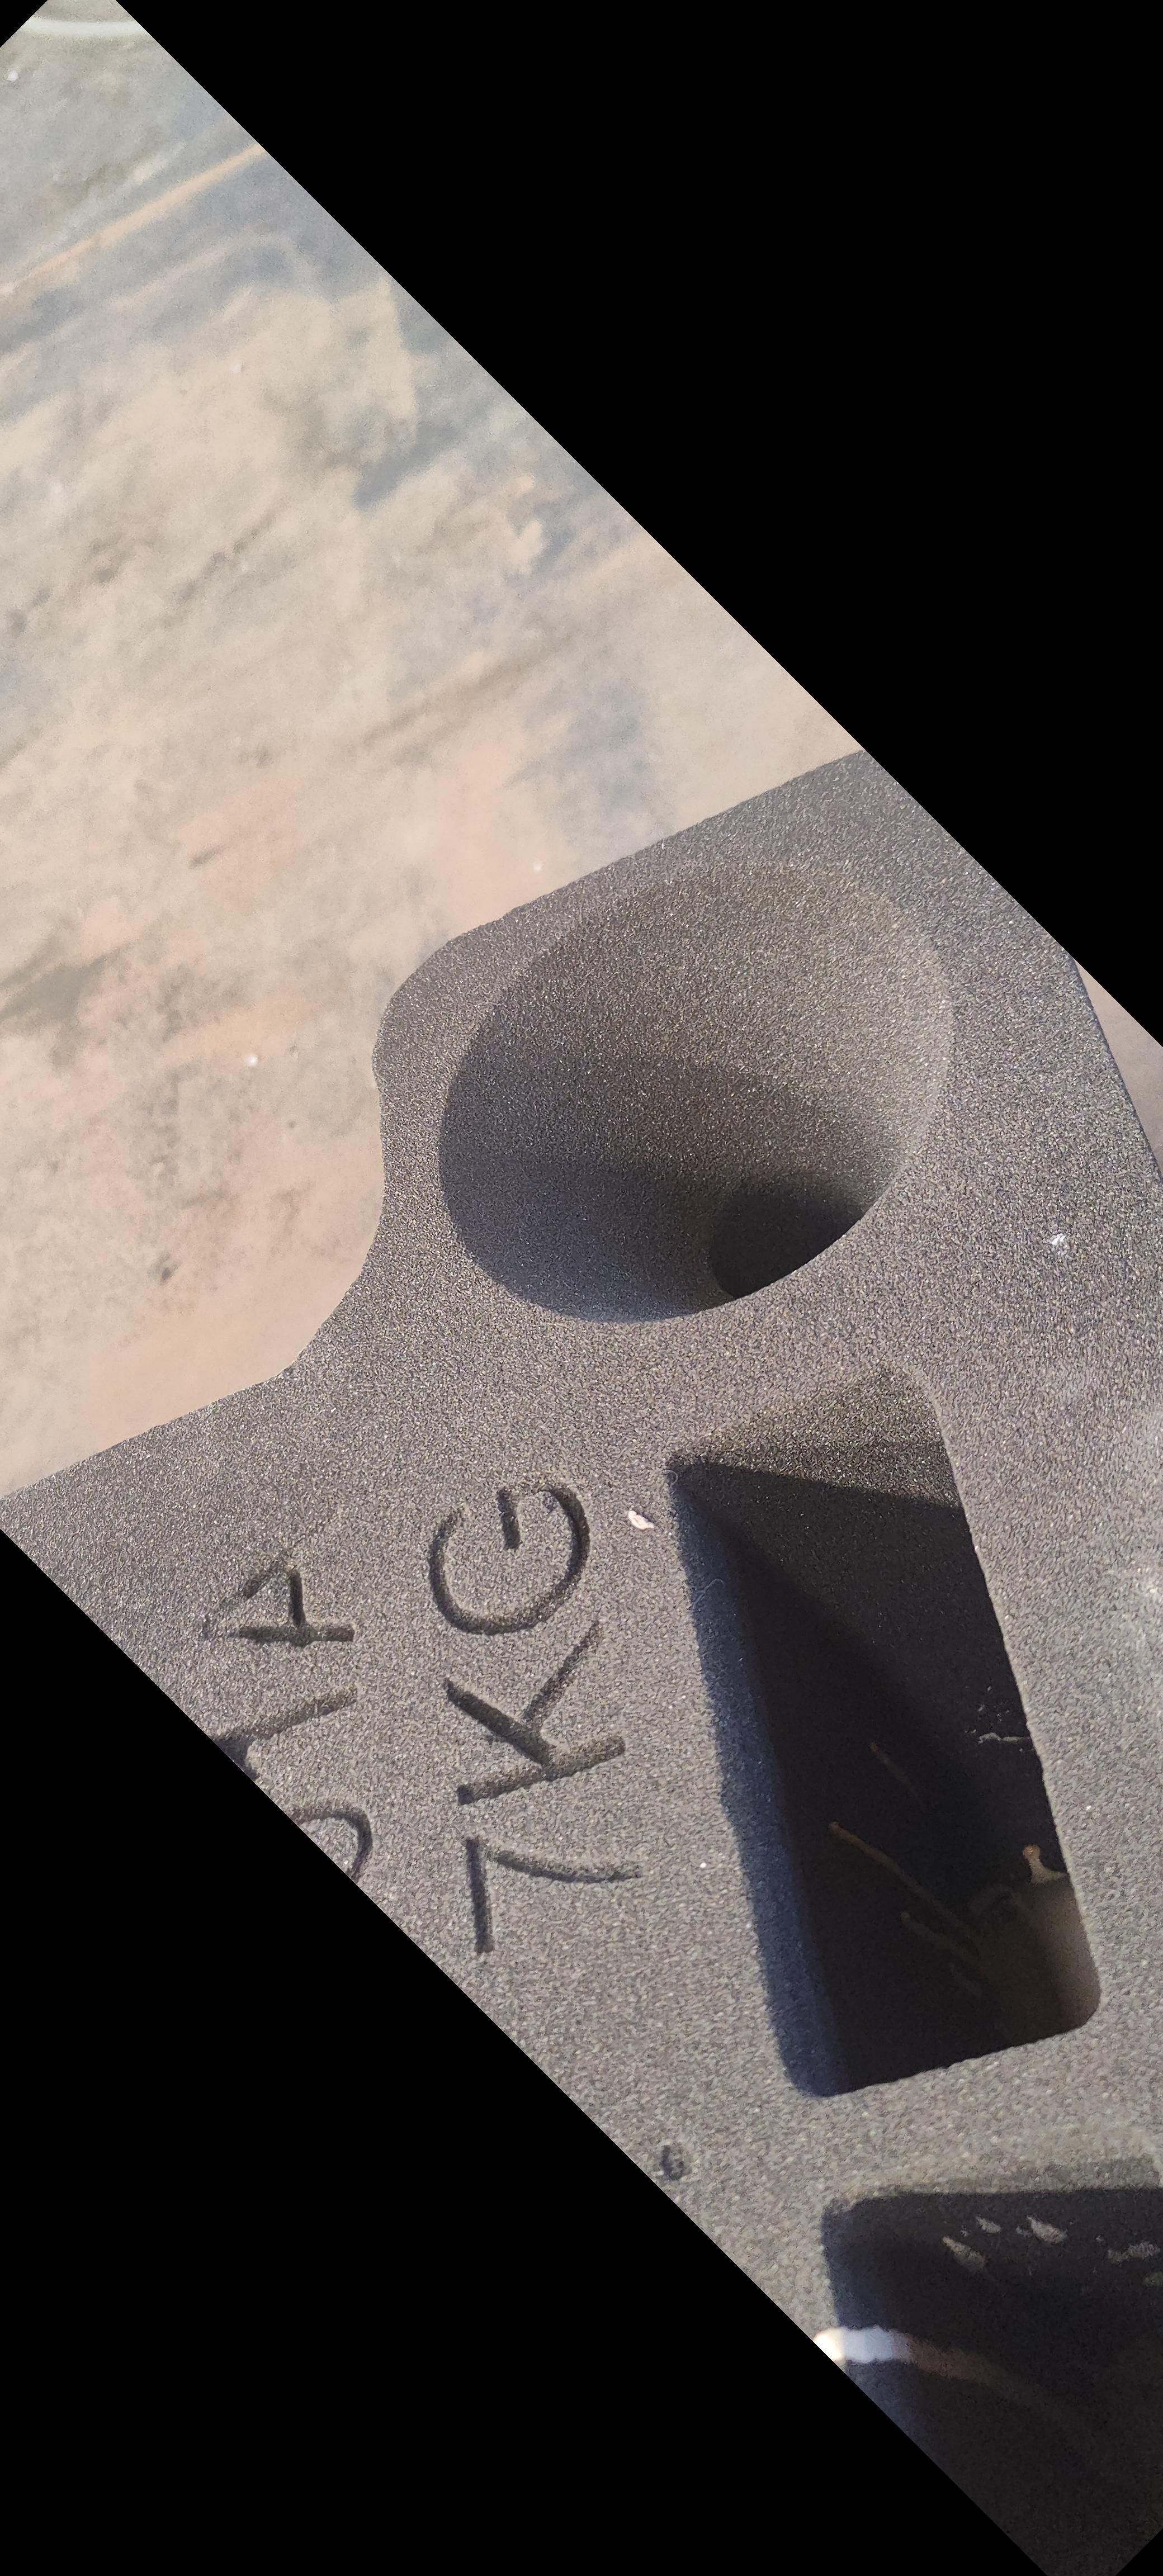pouring hole: (432, 861, 958, 1324)
